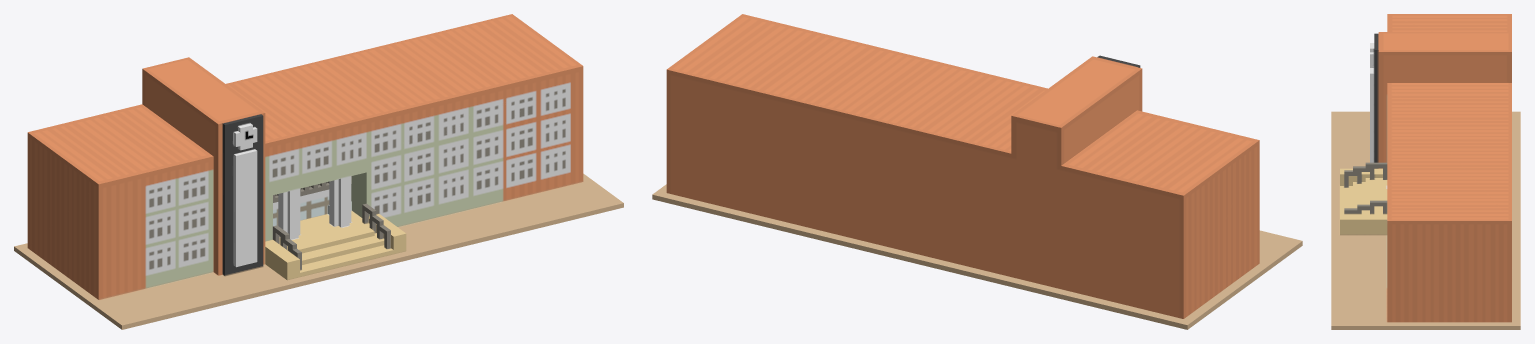
The model's file is kagoshimadaigaku.glb.
3 renders of one model, left to right at view 1: azimuth 30°, elevation 25°; view 2: azimuth 150°, elevation 25°; view 3: azimuth 270°, elevation 25°, orthographic. The views are drawn at different scales.
Visible parts, largest first — view 1: kagosimadaigaku; view 2: kagosimadaigaku; view 3: kagosimadaigaku.
Part boxes in pixels (<box>): kagosimadaigaku: <box>14,14,623,329</box>; kagosimadaigaku: <box>652,14,1302,329</box>; kagosimadaigaku: <box>1331,14,1520,329</box>.
Bounding box in the file's own units: 2.36 × 0.7 × 0.88.
Materials: 1 (1 with a texture image).
